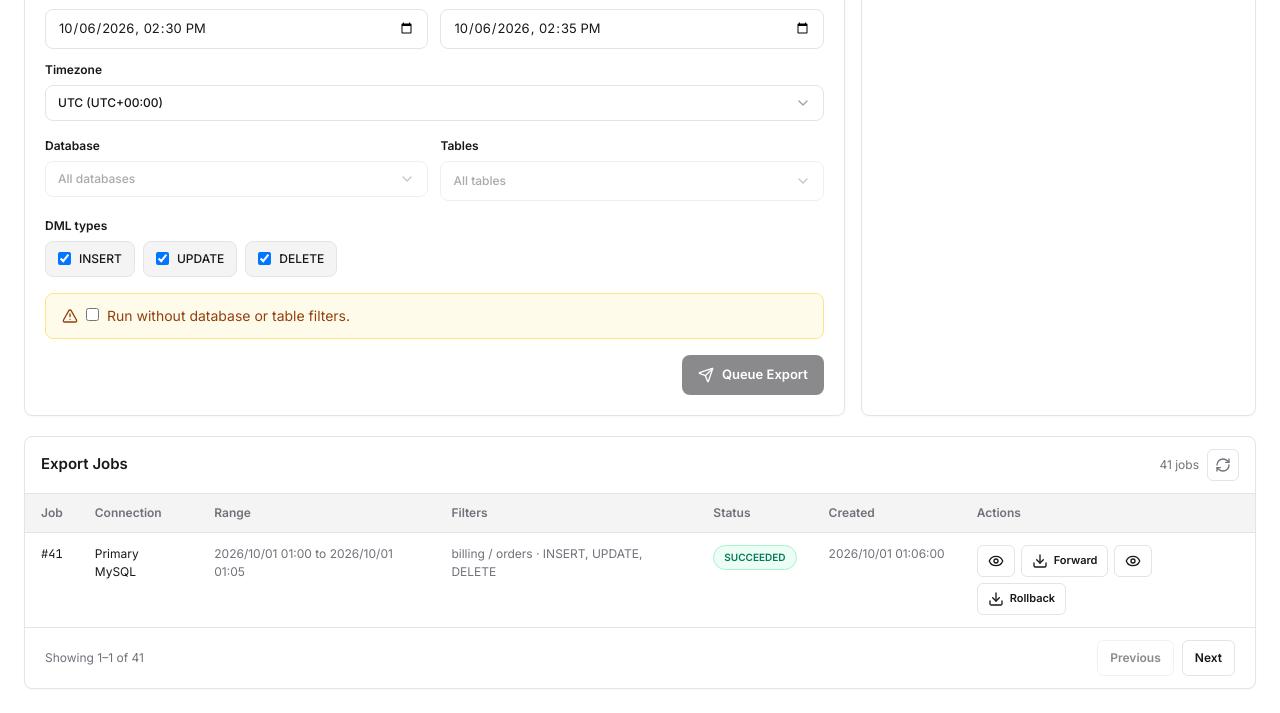
Scenario: BinlogExportPage › export jobs 使用後端 total 並以 limit/offset 翻頁
(page scrolled)
Expected: the text "41 jobs" is shown, left=1159, top=456, right=1199, bottom=474
Step 1. Click the button "Next" → point(1208, 658), box left=1182, top=640, right=1235, bottom=676
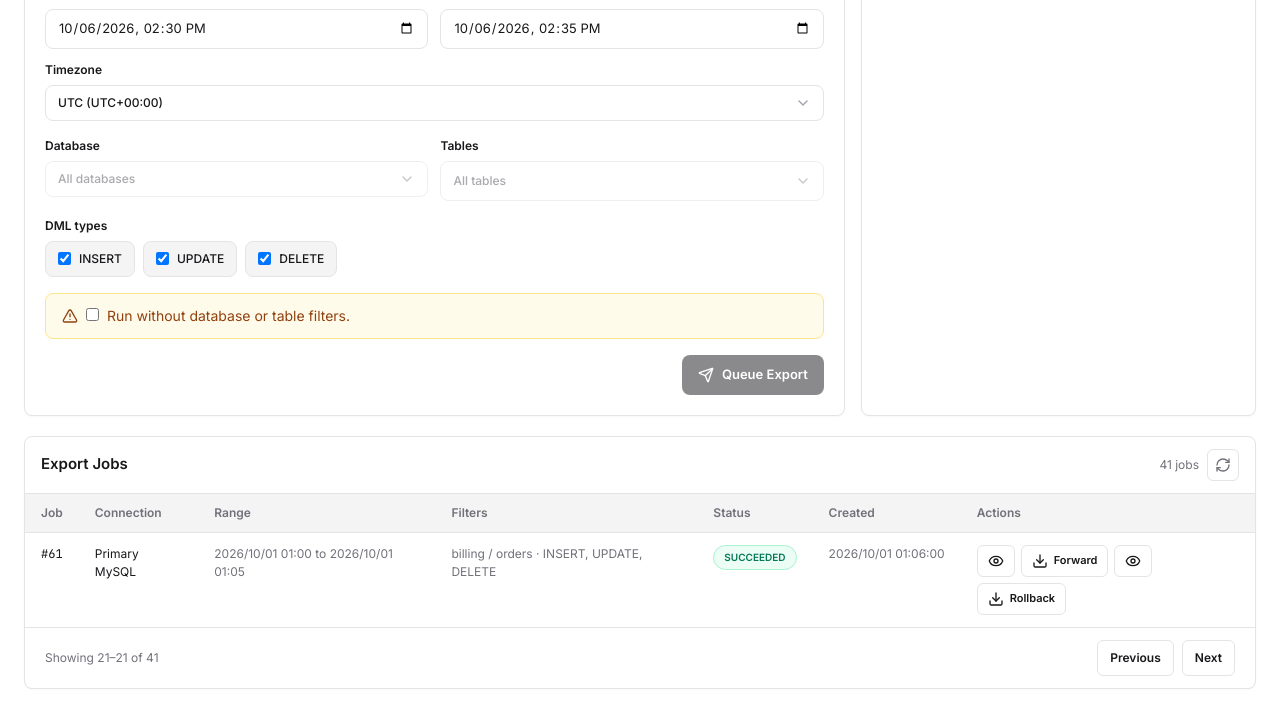
Result: the text "#61" is shown at left=25, top=532, right=79, bottom=626
Result: the text "Showing 21–21 of 41" is shown at left=45, top=648, right=158, bottom=666
